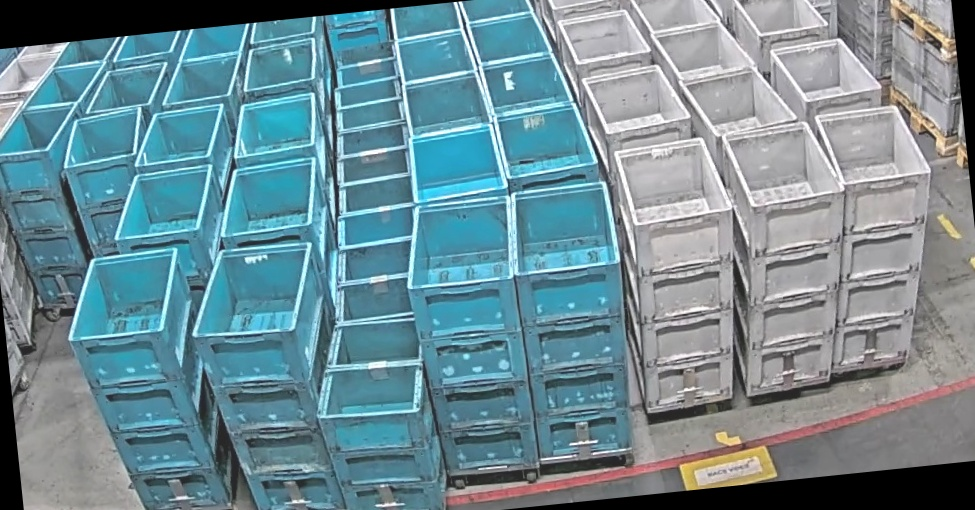4G: (714, 116, 868, 400), (803, 100, 953, 379), (612, 133, 755, 413)
B4: (58, 242, 239, 510), (183, 238, 353, 510), (396, 194, 538, 478), (503, 178, 642, 463), (57, 104, 159, 261), (476, 471, 480, 474)
B8: (306, 315, 448, 510)
